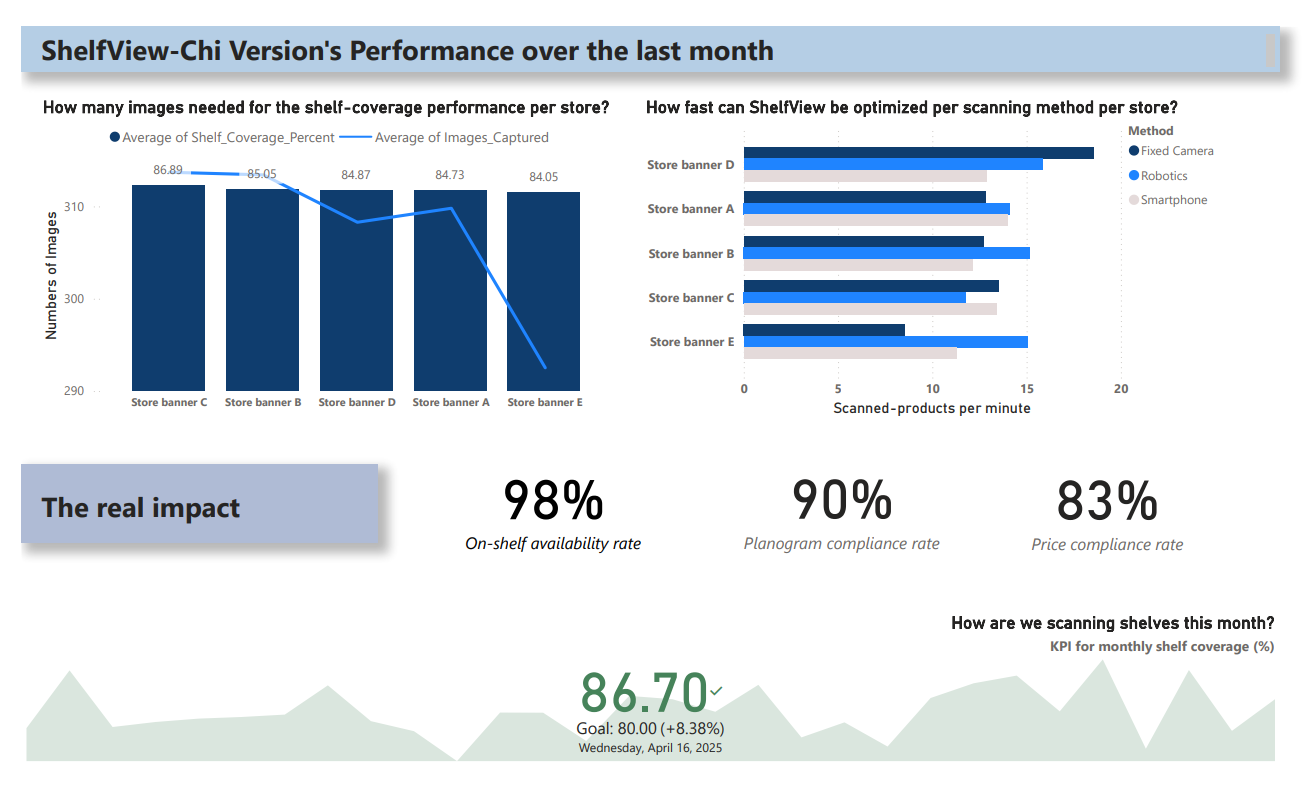

This screenshot's page, from the dashboard's own definition file:
{"tool":"powerbi","page":{"name":"Page 1","canvas":[1280,720],"ordinal":0},"visuals":[{"type":"textbox","title":"ShelfView performance over last month period ","box":[0,0,1225.1,43.9],"z":0},{"type":"lineStackedColumnComboChart","title":"How many images needed for the shelf-coverage performance per store?","fields":{"Category":["shelfview_monthly_detailed_reporting.Store_ID (groups)"],"Y2":["Avg(shelfview_monthly_detailed_reporting.Images_Captured)"],"Y":["Avg(shelfview_monthly_detailed_reporting.Shelf_Coverage_Percent)"]},"box":[16.2,67.5,571.6,316.8],"z":2},{"type":"clusteredBarChart","title":"How fast can ShelfView be optimized per scanning method per store?","fields":{"Category":["shelfview_monthly_detailed_reporting.Store_ID (groups)"],"Y":["shelfview_monthly_detailed_reporting.Efficiency"],"Series":["shelfview_monthly_detailed_reporting.Scan_Method"]},"box":[603.1,67.5,571.6,316.8],"z":3},{"type":"card","fields":{"Values":["shelfview_monthly_detailed_reporting.On-shelf_availability_rate"]},"box":[405.1,383.9,225.2,160.6],"z":4},{"type":"card","fields":{"Values":["Avg(shelfview_monthly_detailed_reporting.AvgPlanogramAccuracyDecimal)"]},"box":[680.1,389.4,237.2,148.6],"z":6},{"type":"textbox","box":[0,426.4,347,75.7],"z":7},{"type":"card","fields":{"Values":["Avg(shelfview_monthly_detailed_reporting.Price alignment rate)"]},"box":[939.5,397.8,235.3,132.9],"z":8},{"type":"kpi","title":"How are we scanning shelves this month?","fields":{"TrendLine":["shelfview_monthly_detailed_reporting.Date"],"Indicator":["Avg(shelfview_monthly_detailed_reporting.Shelf_Coverage_Percent)"],"Goal":["Avg(shelfview_monthly_detailed_reporting.Shelf_coverage_lastMonth)"]},"box":[0,570.3,1224.6,149.5],"z":9}]}

Visuals, with their boxes on the page's 1280x720 design canvas (x1, y1, x2, y2). These are canvas units, not pixel positions in the 1315x796 screenshot, which may show the page scaled, cropped or inside an application window:
"ShelfView performance over last month period " textbox: BBox(0, 0, 1225, 44)
"How many images needed for the shelf-coverage performance per store?" lineStackedColumnComboChart: BBox(16, 68, 588, 384)
"How fast can ShelfView be optimized per scanning method per store?" clusteredBarChart: BBox(603, 68, 1175, 384)
card - shelfview_monthly_detailed_reporting.On-shelf_availability_rate: BBox(405, 384, 630, 544)
card - Avg(shelfview_monthly_detailed_reporting.AvgPlanogramAccuracyDecimal): BBox(680, 389, 917, 538)
textbox: BBox(0, 426, 347, 502)
card - Avg(shelfview_monthly_detailed_reporting.Price alignment rate): BBox(940, 398, 1175, 531)
"How are we scanning shelves this month?" kpi: BBox(0, 570, 1225, 720)
